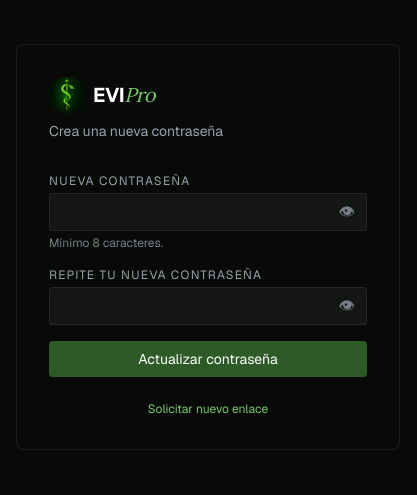
Test: ActualizarContrasenaPage › actualiza la contraseña cuando el enlace ya creó sesión
The width and height of the screenshot is (417, 495).
Type "clave-nueva" into the password field labelled "Nueva contraseña".
click(208, 212); type("clave-nueva")  # box [49,193,367,231]
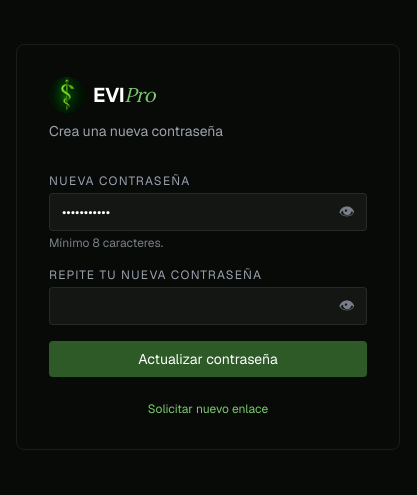
Type "clave-nueva" into the password field labelled "Repite tu nueva contraseña".
click(208, 306); type("clave-nueva")  # box [49,287,367,325]
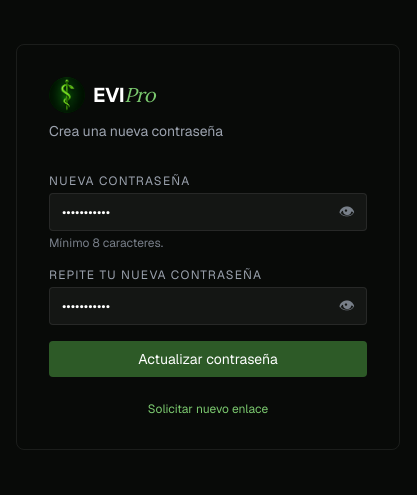
Click the button "Actualizar contraseña".
click(208, 359)  # box [49,341,367,377]
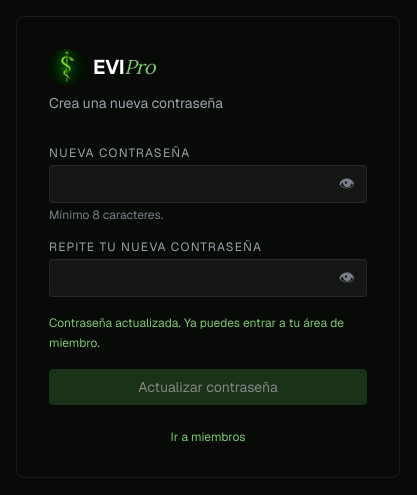
Expected: the text "Contraseña actualizada" is shown, [49,315,344,351]
